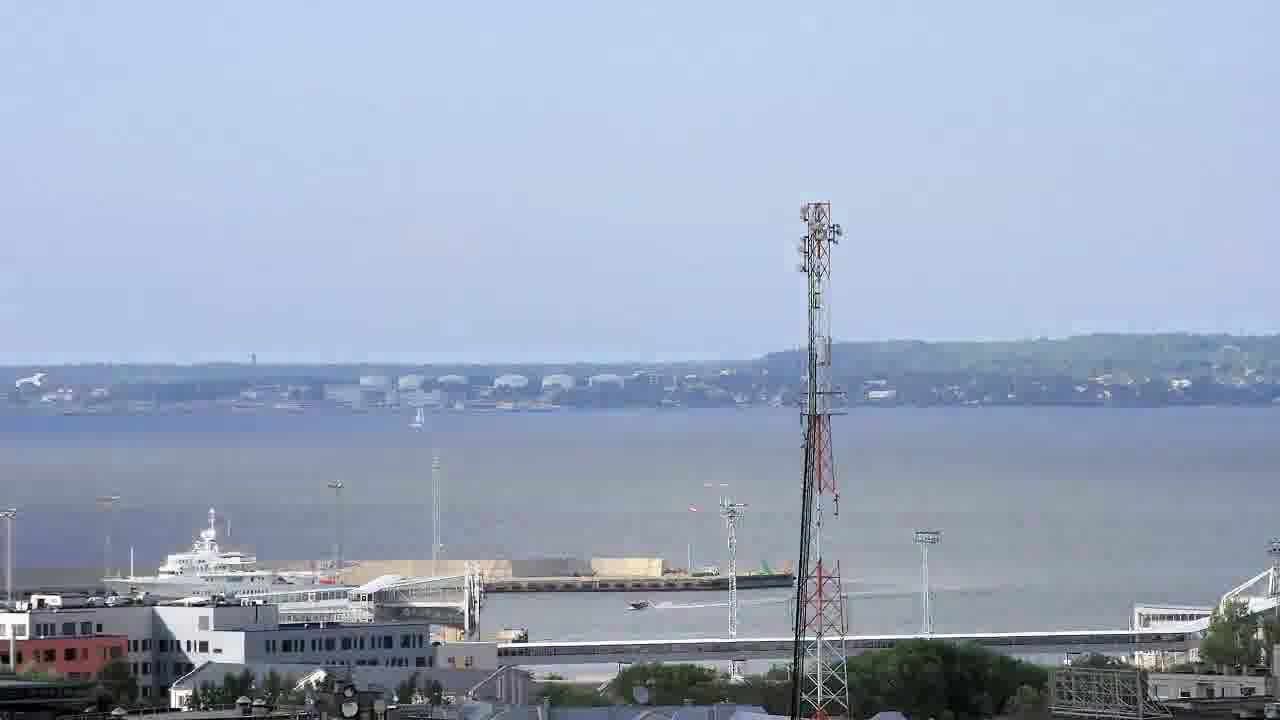type-2: (399, 386, 448, 445)
type-3: (88, 507, 346, 605)
type-4: (613, 590, 668, 623)
